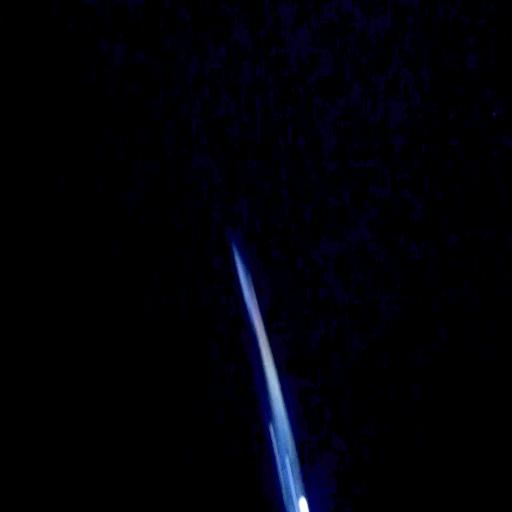object-detection-project: (232, 243, 309, 512)
